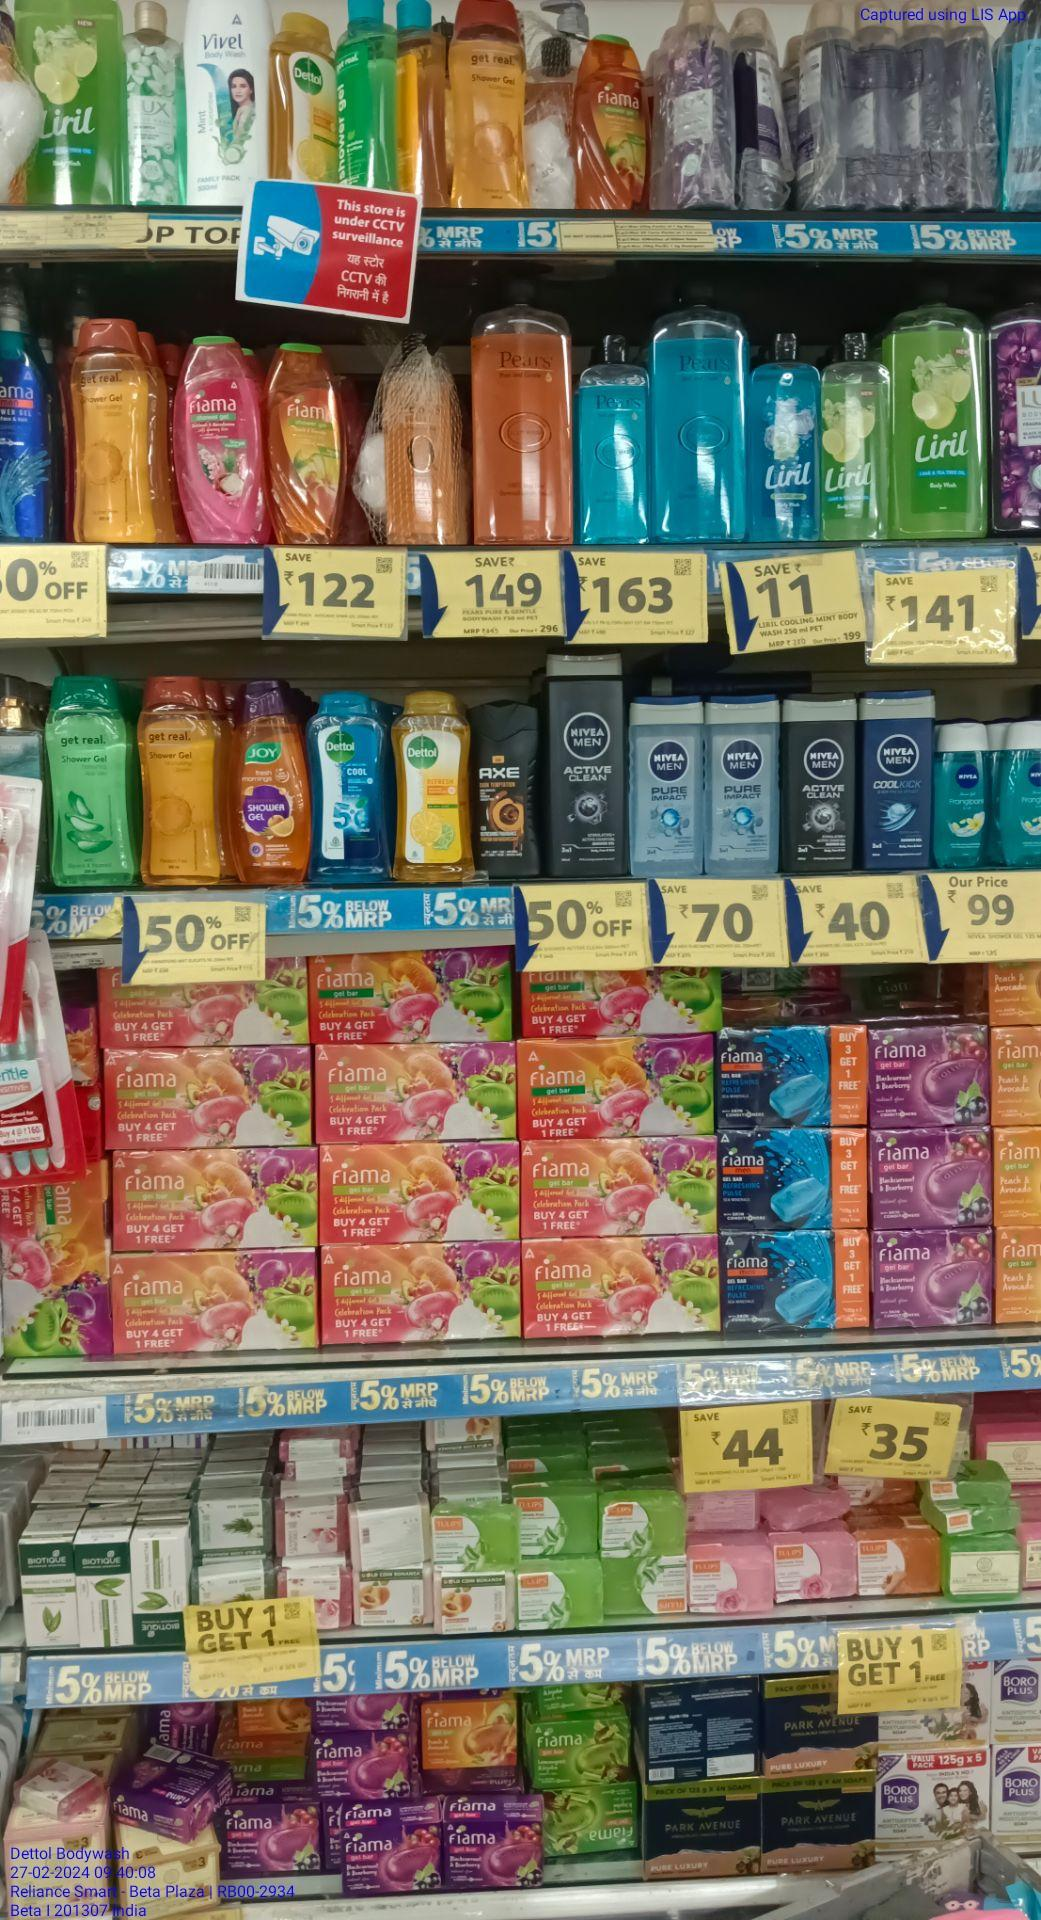Dettol_Bodywash_Cool: (306, 688, 385, 887)
Dettol_Bodywash_Refresh: (394, 688, 474, 890), (274, 12, 346, 192)
Fiama_Shower_Gel_Patchouli_and_Macadamia_250ML: (177, 336, 262, 546)
Fiama_Shower_Gel_Peach_and_Avocado_250ML: (268, 332, 341, 552), (576, 29, 649, 208)
Get_Real_Shower_Gel_Moisturising_Glycerin_300ML: (72, 310, 154, 543), (138, 672, 223, 887), (447, 0, 531, 210)
Joy_Shower_Gel_Mandarin_and_Lemongrass_250ML: (232, 674, 301, 890)
Liril_Cooling_Mint_Body_Wash_250ML: (751, 328, 818, 545)
Liril_Lime_and_Tea_Tree_Oil_Body_Wash_250ML: (822, 324, 887, 542)
Lux_Body_Wash_Skin_Detox_Freesia_Scent_and_Alove_Vera_245ML: (124, 0, 188, 206)
Nivea_Shower_Gel_Frangipani_and_Oil_250ML: (937, 714, 990, 869), (1000, 713, 1041, 865)
Pears_Pure_Glycerin_and_Mint_Extracts_Body_Wash_250ML: (574, 328, 649, 545)
